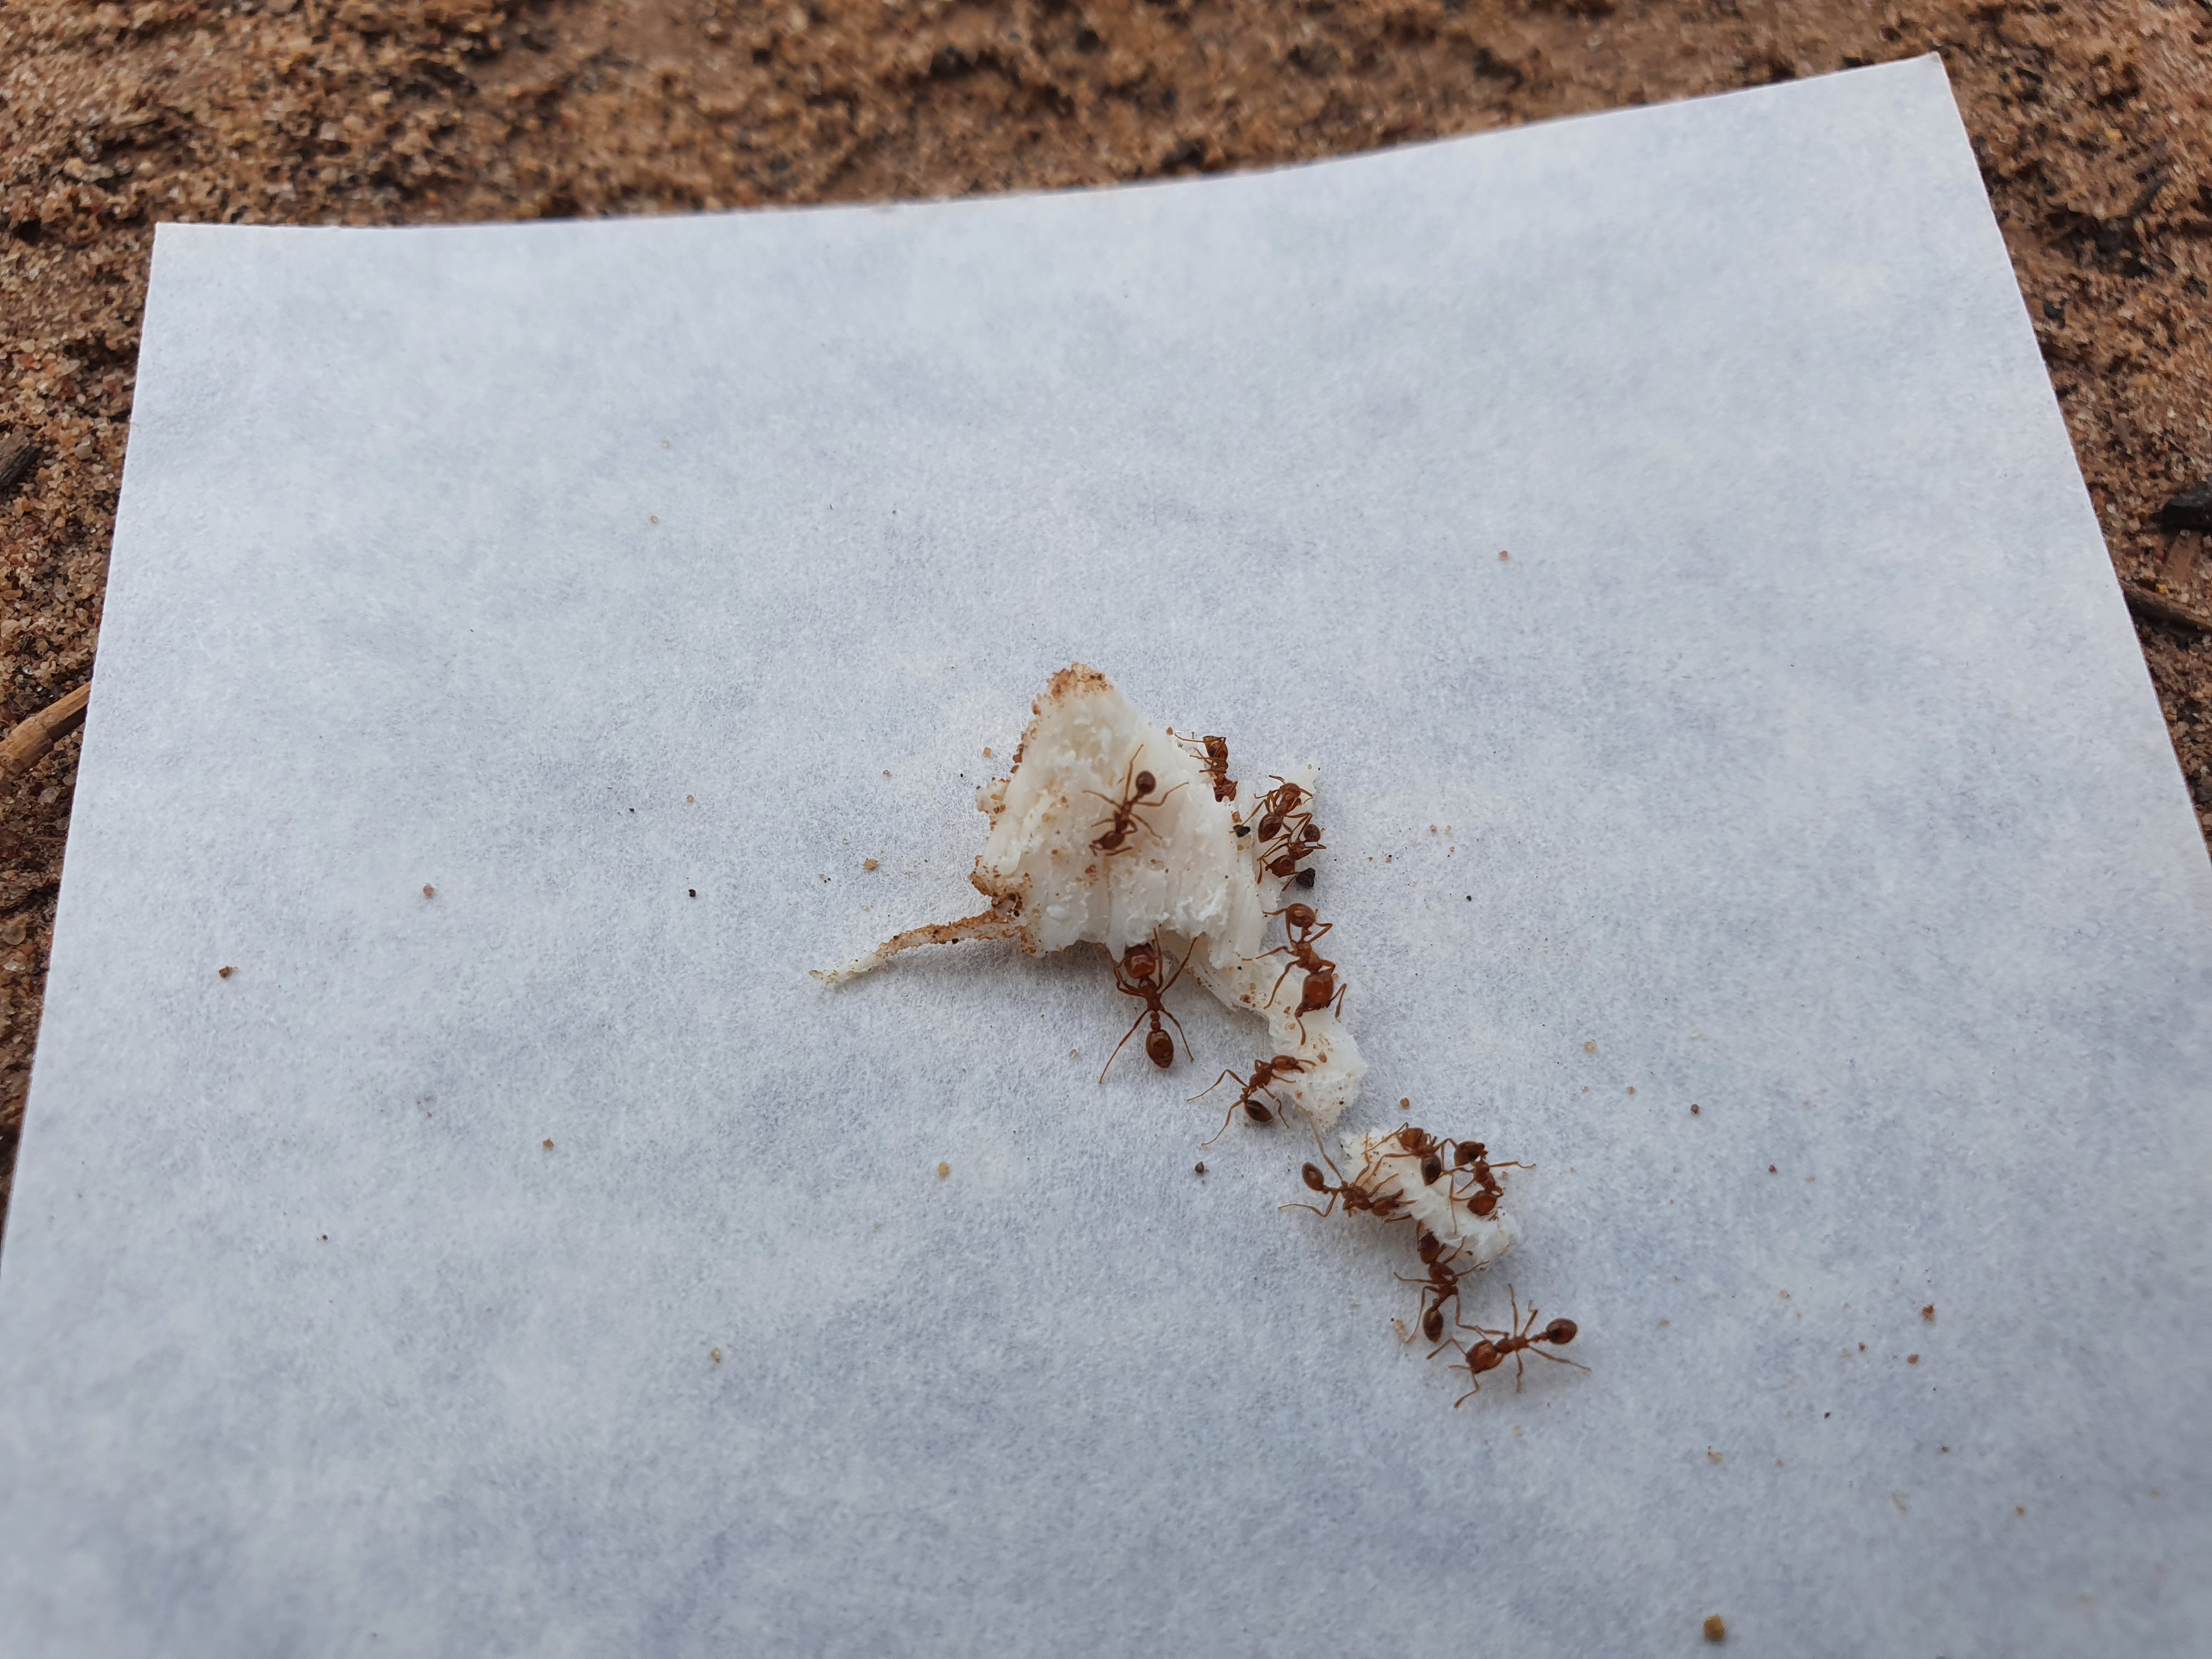Solenopsis_geminata: (1076, 897, 1216, 1107), (1066, 728, 1186, 920), (1447, 1279, 1602, 1425), (1231, 894, 1364, 1053), (1181, 1033, 1327, 1171), (1266, 1127, 1414, 1248), (1446, 1119, 1548, 1237), (1170, 714, 1251, 819), (1381, 1103, 1451, 1190)
